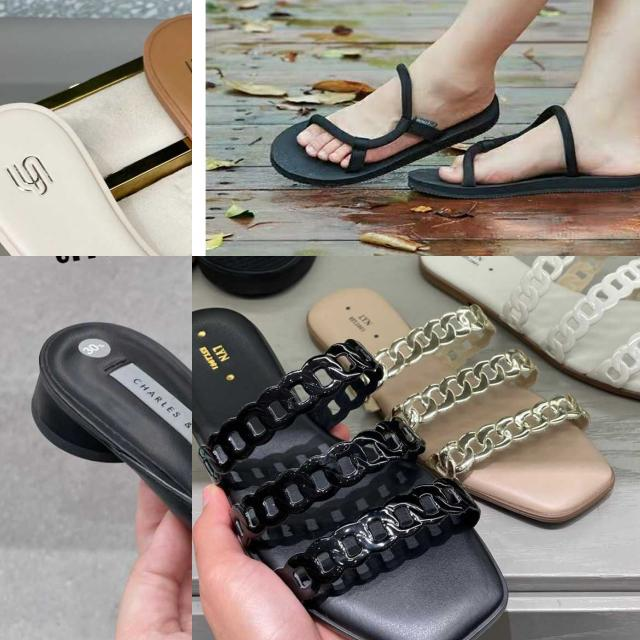Sandals: (192, 287, 537, 640), (294, 256, 640, 535), (238, 12, 640, 237), (3, 293, 192, 640), (389, 256, 640, 429), (0, 94, 192, 256), (116, 0, 192, 256)
